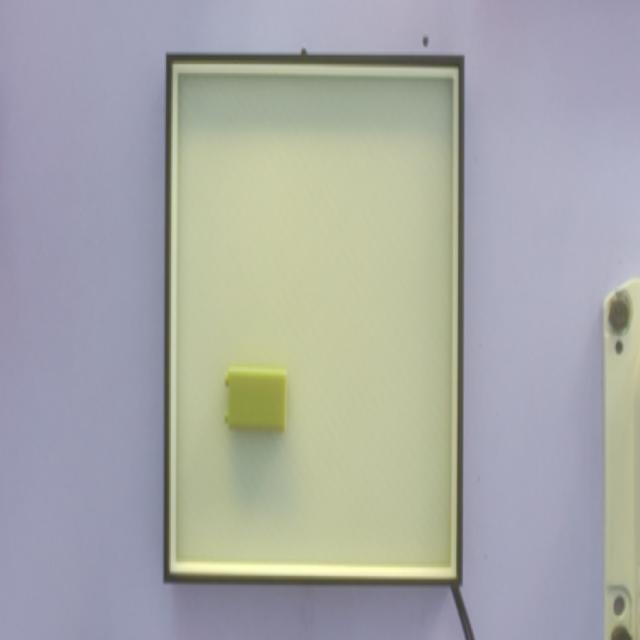bateria: (224, 366, 287, 432)
mesa: (164, 55, 464, 586)
